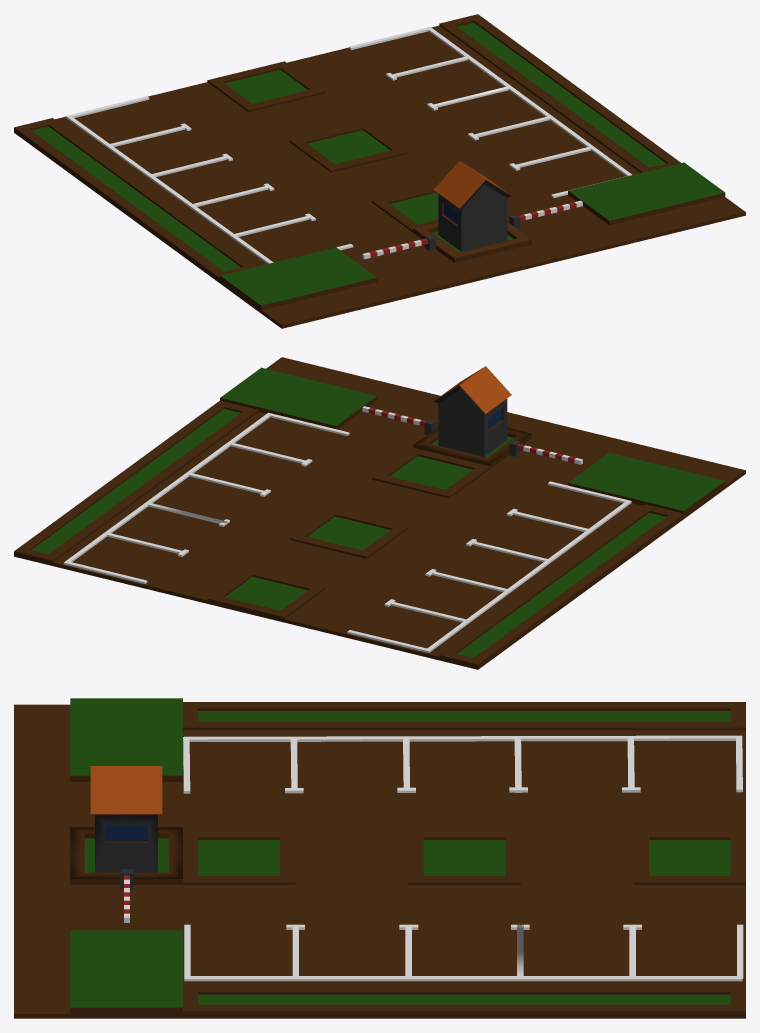
File: Parking.fbx
3 renders of one model, top to bottom at view 1: azimuth 30°, elevation 25°; view 2: azimuth 150°, elevation 25°; view 3: azimuth 270°, elevation 25°, orthographic. The views are drawn at different scales.
Visible parts, largest first — view 1: Parking; view 2: Parking; view 3: Parking.
Part boxes in pixels (x1,y1,x2,y2): Parking: (14, 14, 745, 328); Parking: (14, 357, 745, 669); Parking: (14, 698, 745, 1018).
Size of the model in its own units: 200 by 29.51 by 200.
